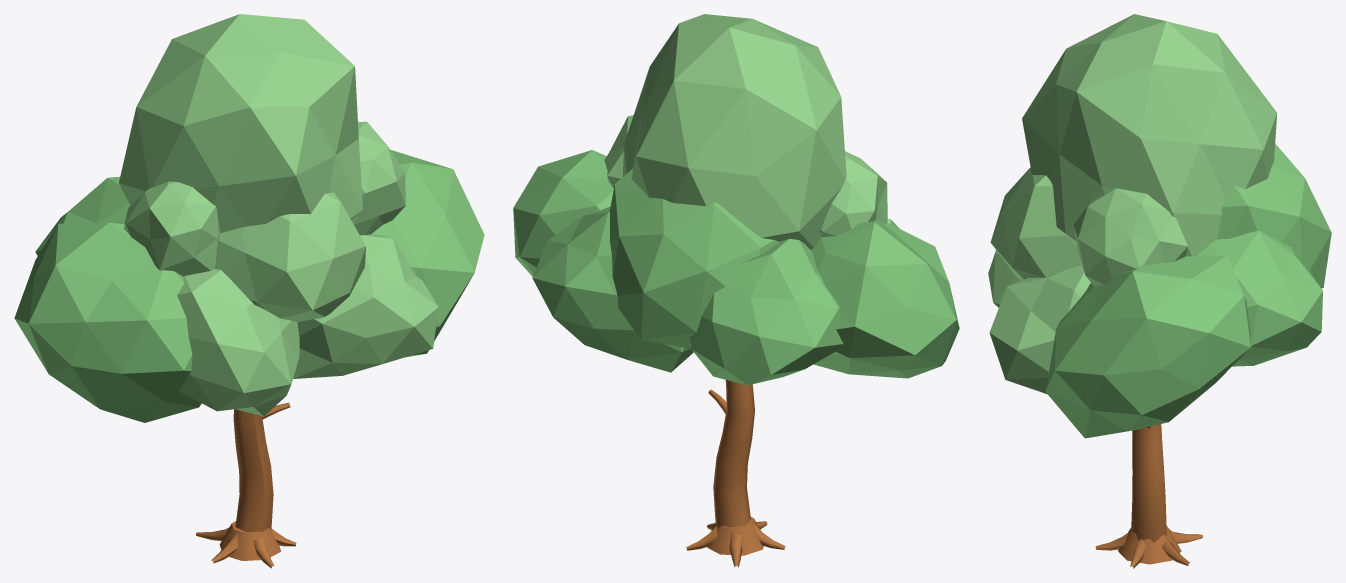
Rendered from tree.glb.
3 views of the same model, side by side, from view 1: azimuth 30°, elevation 25°; view 2: azimuth 150°, elevation 25°; view 3: azimuth 270°, elevation 25° (orthographic).
Visible parts, largest first — view 1: foliage_crown_top, foliage_side_left, foliage_crown_front, foliage_side_left_fr, foliage_side_right_fr, foliage_side_right, foliage_tuft_left, trunk, foliage_tuft_right, foliage_side_left_bk, trunk_flare; view 2: foliage_crown_top, foliage_side_left, foliage_crown_back, foliage_side_left_bk, foliage_side_right_bk, foliage_side_right, trunk, foliage_tuft_left, trunk_flare, foliage_tuft_right; view 3: foliage_crown_top, foliage_side_right, foliage_side_right_bk, foliage_tuft_right, foliage_crown_back, foliage_side_right_fr, foliage_crown_front, trunk, trunk_flare, foliage_side_left_fr.
Boxes of the visible parts, x1,y1,x2,y2 form: foliage_crown_top: [119, 14, 362, 233]; foliage_side_left: [14, 222, 201, 422]; foliage_crown_front: [214, 192, 365, 322]; foliage_side_left_fr: [177, 269, 299, 416]; foliage_side_right_fr: [293, 234, 438, 378]; foliage_side_right: [371, 150, 484, 357]; foliage_tuft_left: [124, 181, 220, 276]; trunk: [233, 409, 273, 531]; foliage_tuft_right: [351, 121, 405, 235]; foliage_side_left_bk: [35, 176, 130, 255]; trunk_flare: [219, 521, 280, 560]; foliage_crown_top: [622, 14, 846, 249]; foliage_side_left: [810, 219, 959, 378]; foliage_crown_back: [609, 168, 778, 348]; foliage_side_left_bk: [689, 238, 843, 385]; foliage_side_right_bk: [532, 206, 693, 372]; foliage_side_right: [513, 150, 613, 276]; trunk: [713, 380, 754, 527]; foliage_tuft_left: [820, 151, 887, 236]; trunk_flare: [707, 517, 763, 555]; foliage_tuft_right: [604, 115, 633, 188]; foliage_crown_top: [1022, 14, 1277, 256]; foliage_side_right: [1045, 256, 1250, 438]; foliage_side_right_bk: [1197, 230, 1322, 366]; foliage_tuft_right: [1073, 188, 1187, 286]; foliage_crown_back: [1217, 144, 1331, 288]; foliage_side_right_fr: [989, 265, 1090, 394]; foliage_crown_front: [990, 167, 1081, 280]; trunk: [1131, 424, 1166, 542]; trunk_flare: [1118, 526, 1181, 564]; foliage_side_left_fr: [988, 250, 1020, 307].
Bounding box in the file's own units: 4.4 × 5.14 × 3.02.
